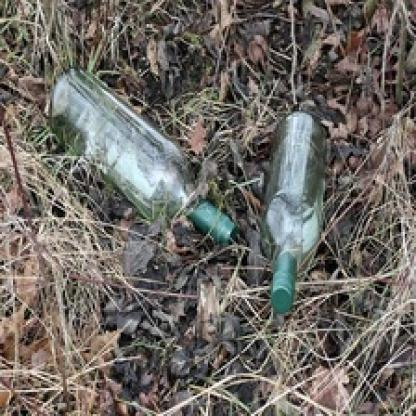Can: (42, 64, 242, 247), (262, 109, 329, 316)
